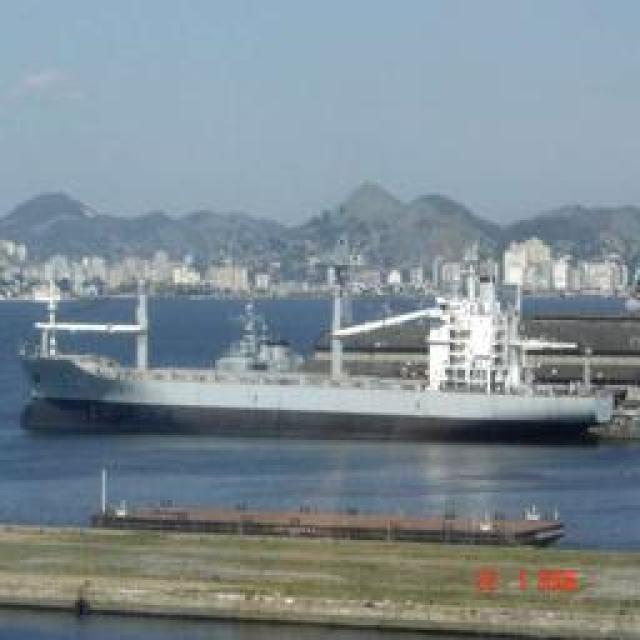CIV_Ship: (28, 311, 612, 439)
